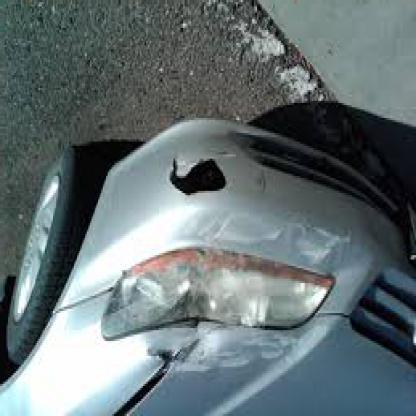dent: (160, 147, 232, 209)
